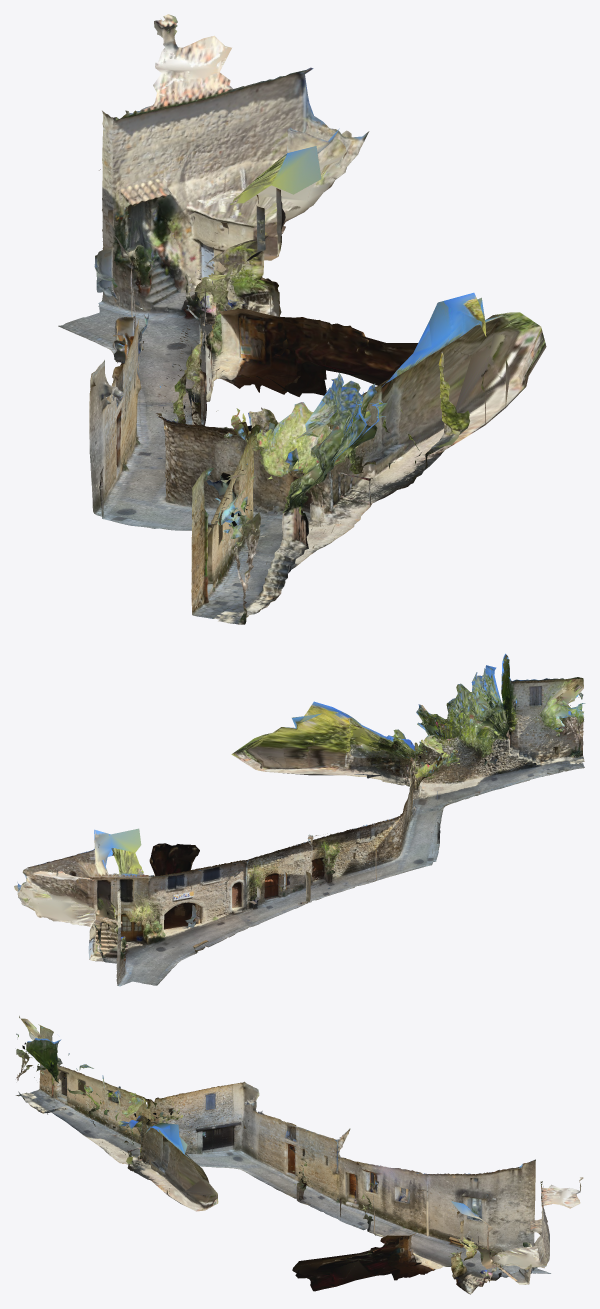
File: medium.glb
The picture shows the model from 3 angles, top to bottom: view 1: azimuth 30°, elevation 25°; view 2: azimuth 150°, elevation 25°; view 3: azimuth 270°, elevation 25°; orthographic projection. The views are drawn at different scales.
Visible parts, largest first — view 1: medium.031; view 2: medium.031; view 3: medium.031.
Boxes of the visible parts, bbox=[...] form: medium.031: bbox=[58, 14, 546, 624]; medium.031: bbox=[14, 653, 585, 986]; medium.031: bbox=[16, 1016, 583, 1294].
Bounding box in the file's own units: 24.06 × 12.17 × 36.62.
Materials: 1 (1 with a texture image).
